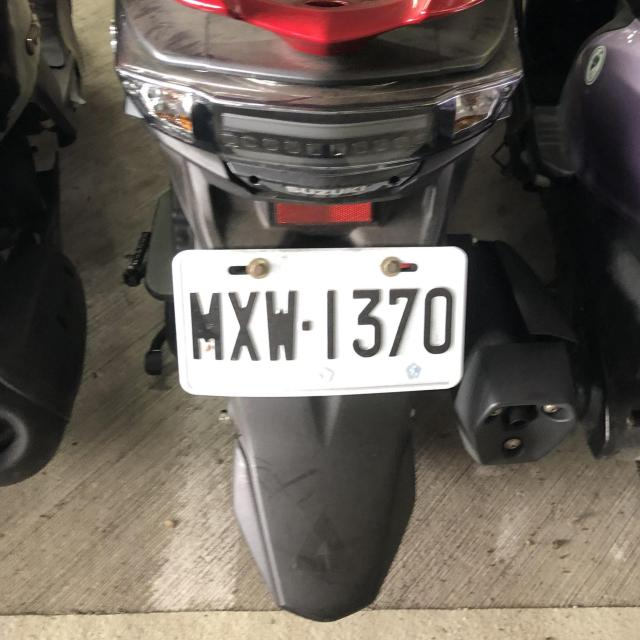W: (167, 242, 469, 396)
